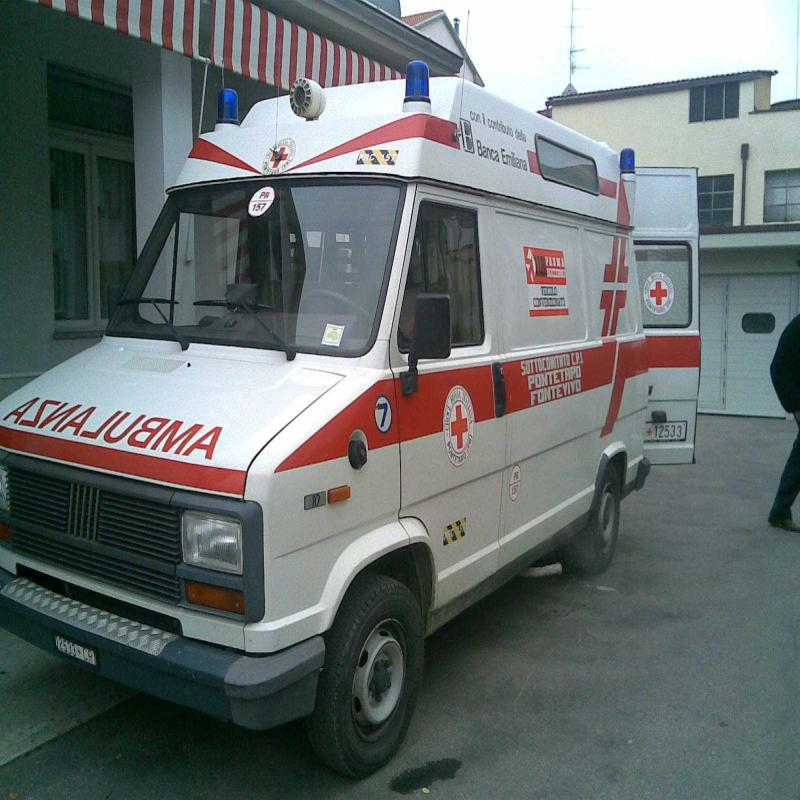AmbulanceSiren: (196, 61, 262, 161), (385, 50, 441, 127)
